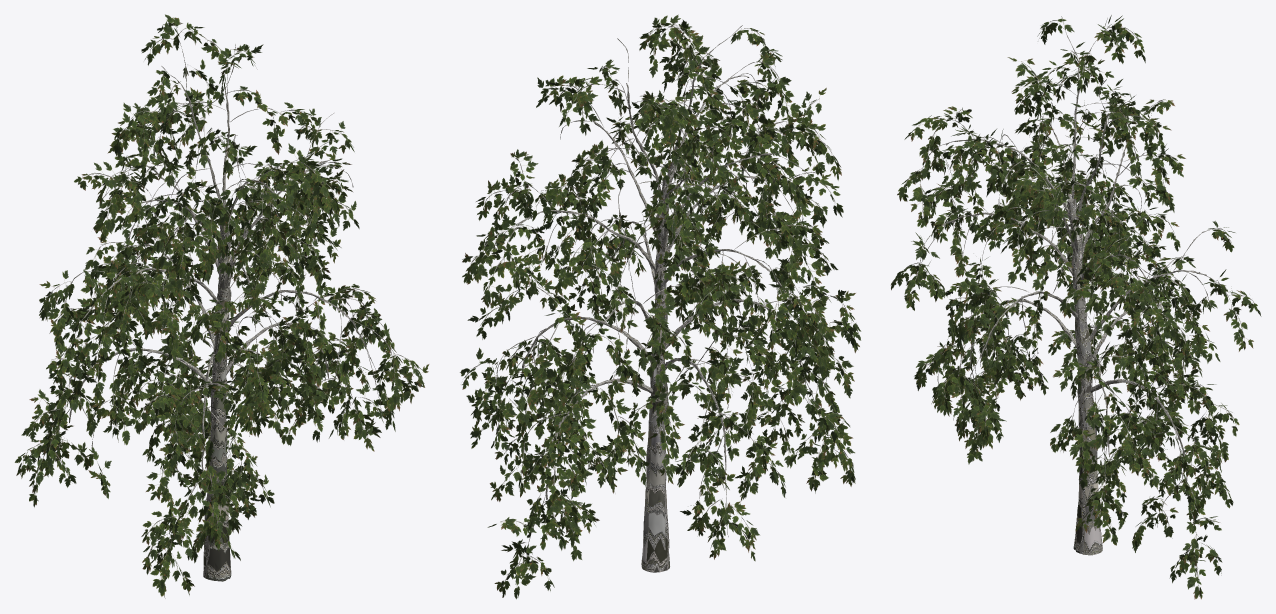
Rendered from tree.glb.
3 views of the same model, side by side, from view 1: azimuth 30°, elevation 25°; view 2: azimuth 150°, elevation 25°; view 3: azimuth 270°, elevation 25° (orthographic). The views are drawn at different scales.
Parts seen in each view (by area): view 1: geo1_Amur_Maple_0_0, geo1_Silver_Birch_Bark_0; view 2: geo1_Amur_Maple_0_0, geo1_Silver_Birch_Bark_0; view 3: geo1_Amur_Maple_0_0, geo1_Silver_Birch_Bark_0.
Part boxes in pixels (<box>): geo1_Amur_Maple_0_0: <box>14,14,429,598</box>; geo1_Silver_Birch_Bark_0: <box>23,22,418,581</box>; geo1_Amur_Maple_0_0: <box>460,14,861,599</box>; geo1_Silver_Birch_Bark_0: <box>466,24,850,580</box>; geo1_Amur_Maple_0_0: <box>891,15,1261,599</box>; geo1_Silver_Birch_Bark_0: <box>904,16,1253,580</box>.
Size of the model in its own units: 0.144 by 0.2262 by 0.1442.
2 materials, 2 textured.
